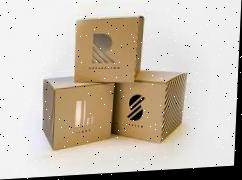cube: (41, 73, 117, 151), (115, 71, 191, 145), (72, 18, 146, 87)
